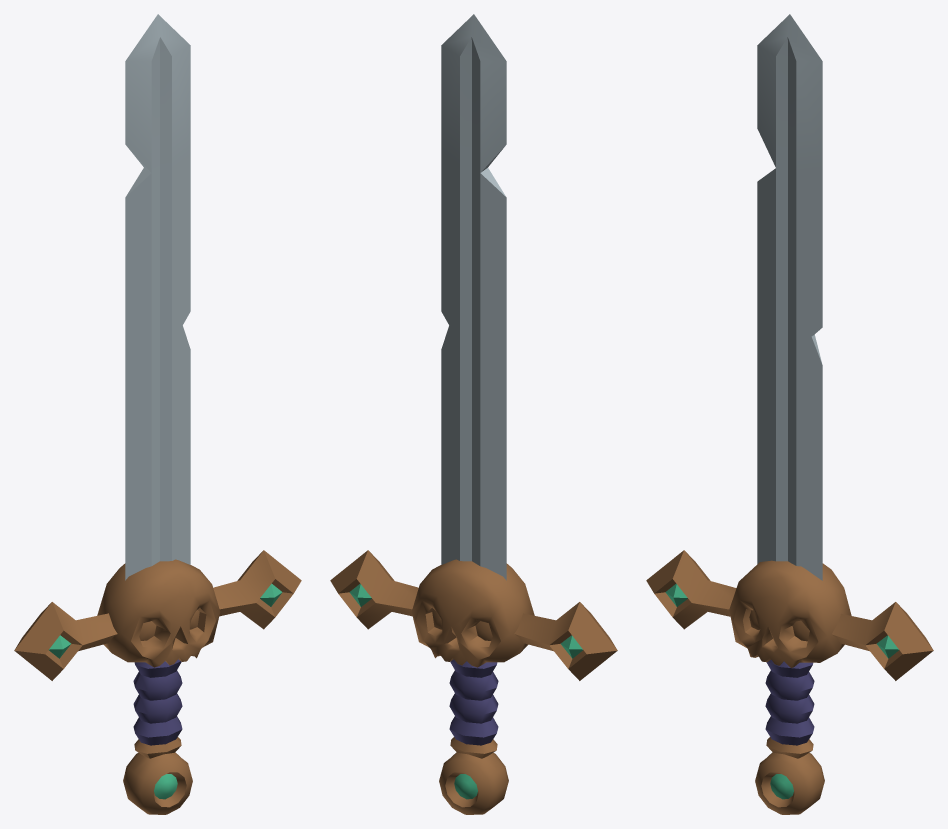
Rendered from sword.gltf.glb.
3 renders of one model, left to right at view 1: azimuth 30°, elevation 25°; view 2: azimuth 150°, elevation 25°; view 3: azimuth 330°, elevation 25°, orthographic.
Parts seen in each view (by area): view 1: sword; view 2: sword; view 3: sword.
Part boxes in pixels (left/top/right/bottom): sword: left=14, top=14, right=301, bottom=814; sword: left=330, top=14, right=617, bottom=814; sword: left=646, top=14, right=933, bottom=814.
Size of the model in its own units: 0.633 by 1.68 by 0.1701.
